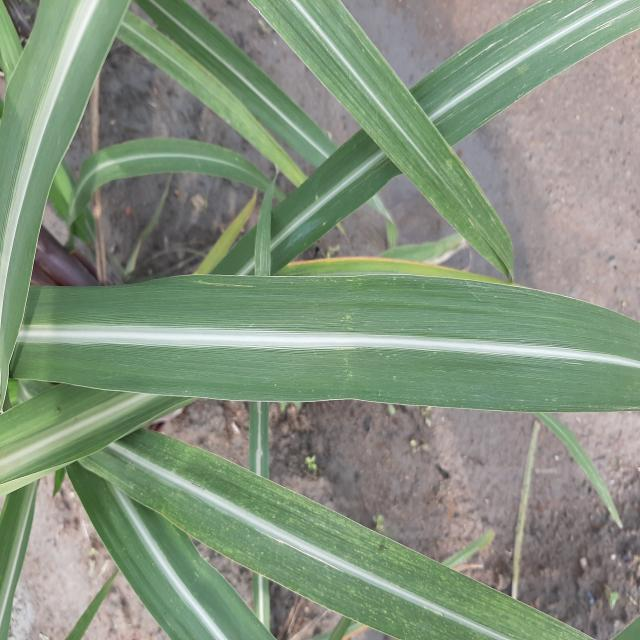Sugarcane: (1, 1, 638, 638)
